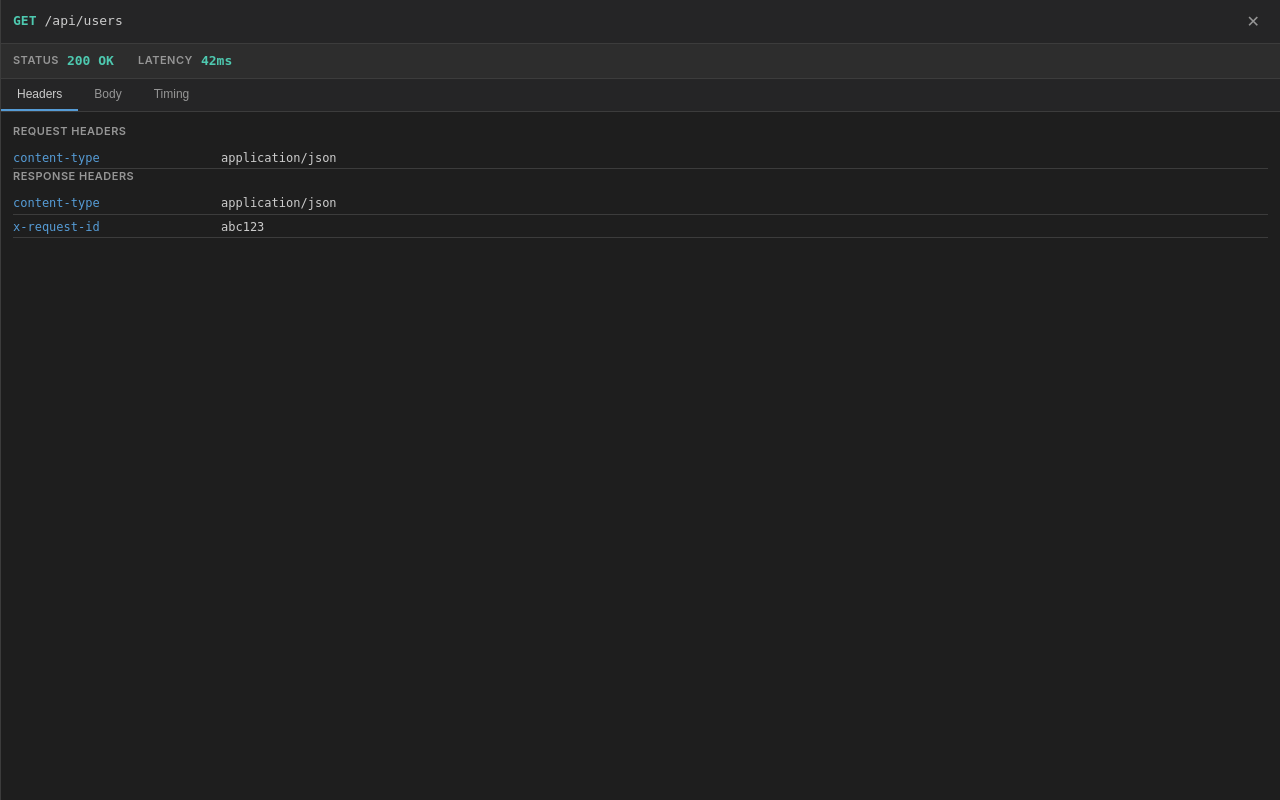
Scenario: DetailPanel › switches tabs on click
Click the tab "Body" at (108, 95), box left=78, top=79, right=138, bottom=111
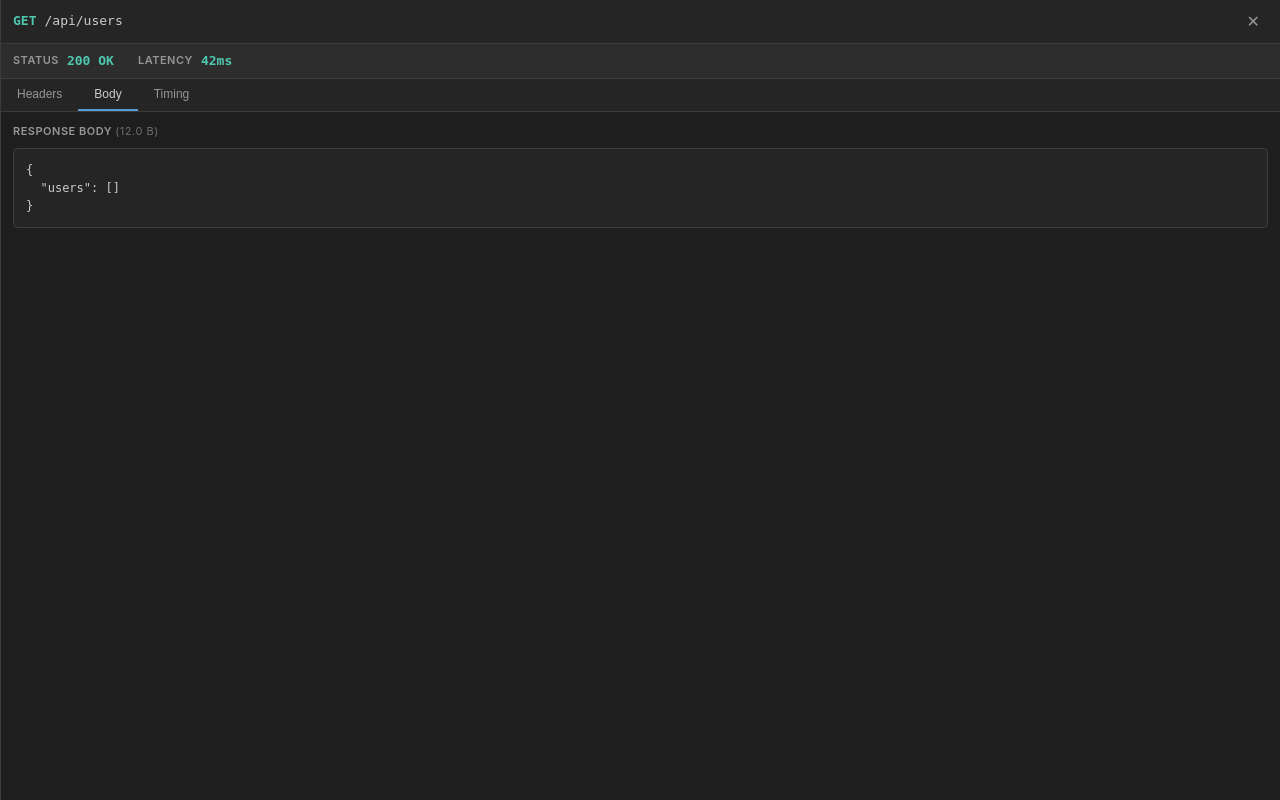
Check: the heading "Response Body (12.0 B)" is shown, box left=13, top=124, right=159, bottom=138
